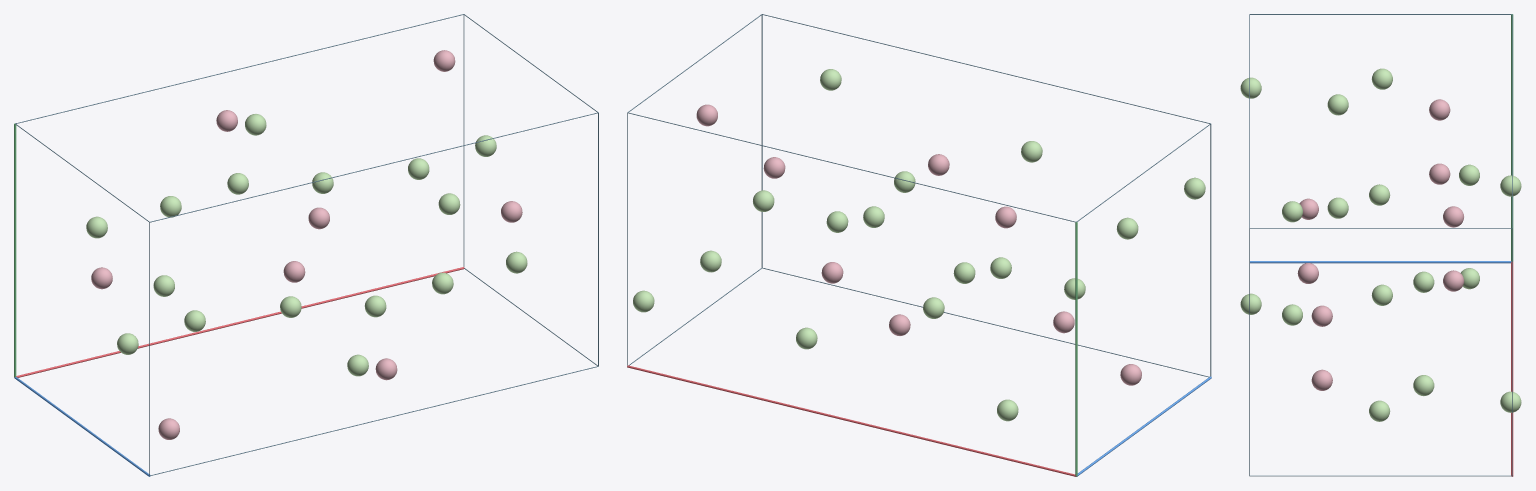
The model's file is chat-strontium-iodide.glb.
3 renders of one model, left to right at view 1: azimuth 30°, elevation 25°; view 2: azimuth 150°, elevation 25°; view 3: azimuth 270°, elevation 25°, orthographic. The views are drawn at different scales.
Visible parts, largest first — view 1: Ô mạng và các trục a, b, c; view 2: Ô mạng và các trục a, b, c; view 3: Ô mạng và các trục a, b, c, I2 · I · 1 (×8), Sr · Sr · 1 (×8), I1 · I · 1 (×8).
Boxes of the visible parts, x1,y1,x2,y2 form: Ô mạng và các trục a, b, c: (14, 14, 598, 476); Ô mạng và các trục a, b, c: (627, 14, 1211, 476); Ô mạng và các trục a, b, c: (1249, 14, 1513, 476); I2 · I · 1 (×8): (1240, 68, 1521, 421); Sr · Sr · 1 (×8): (1297, 99, 1464, 390); I1 · I · 1 (×8): (1282, 94, 1479, 396).
Size of the model in its own units: 15.27 by 8.27 by 8.45.
